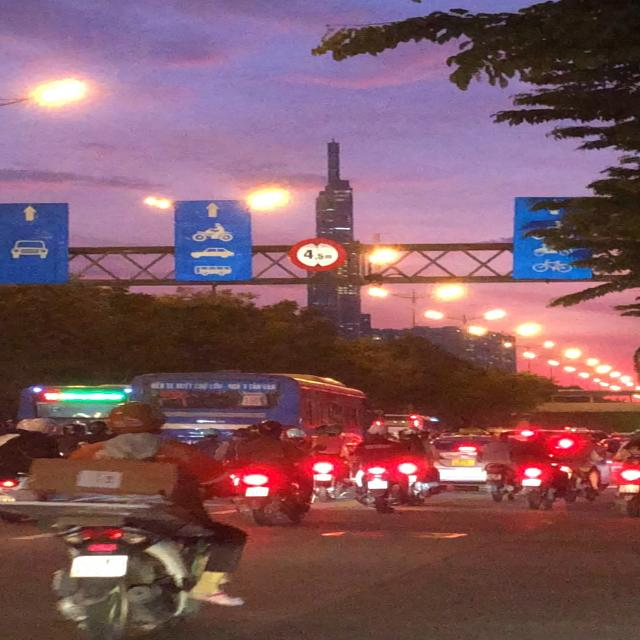Bien bao han che chieu cao: (282, 232, 353, 274)
